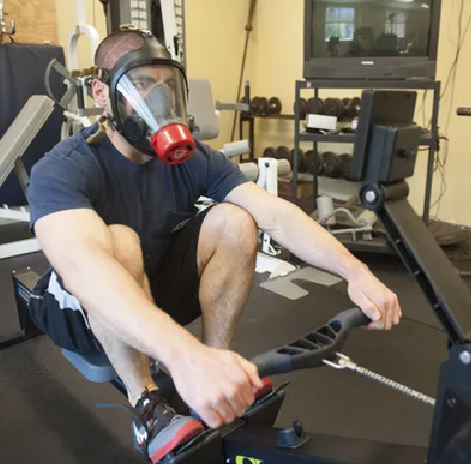with_mask: (85, 34, 199, 161)
